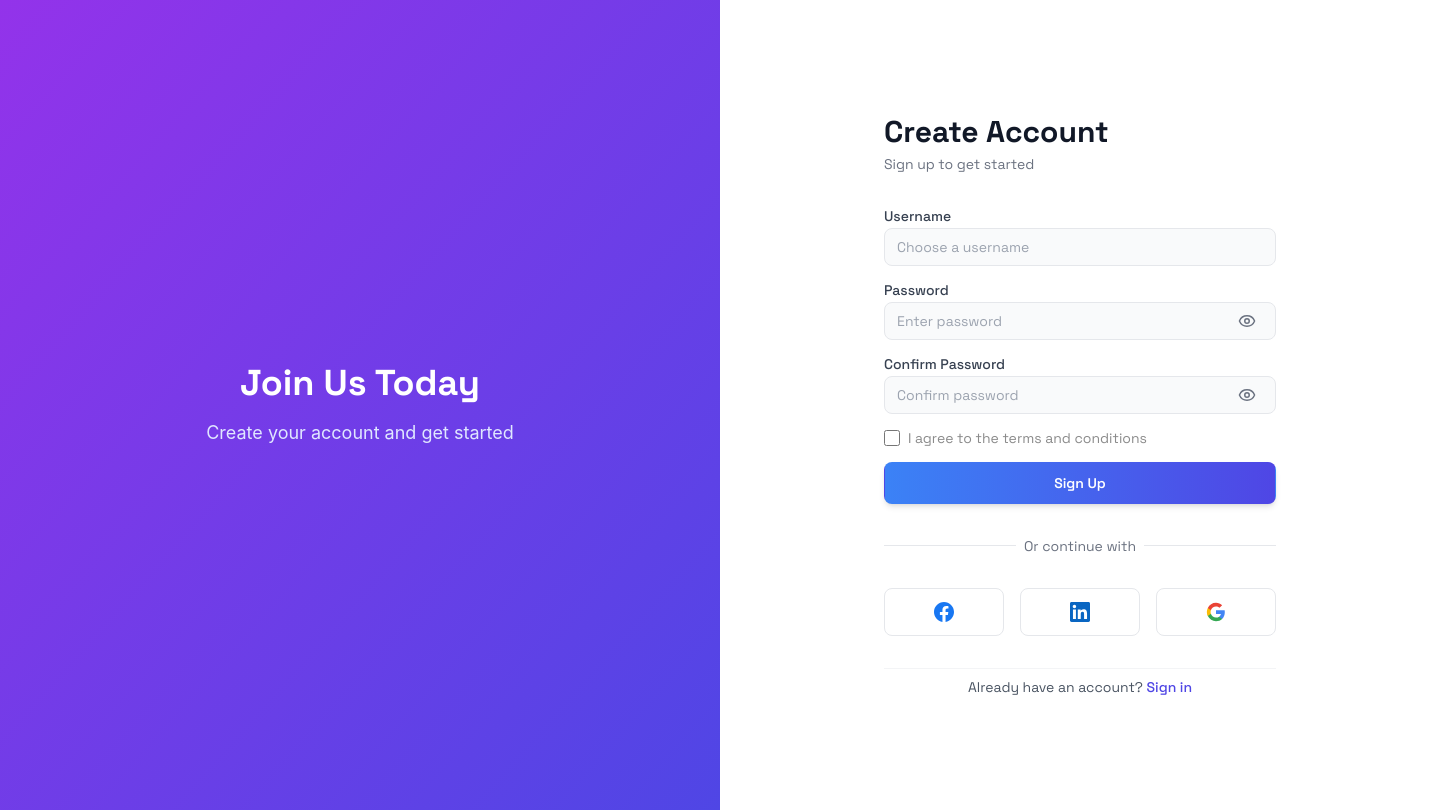
Scenario: RegisterForm › shows error when password is empty
Type "testuser" into the field labelled "Username" at (1080, 246), box [884,228,1276,266]
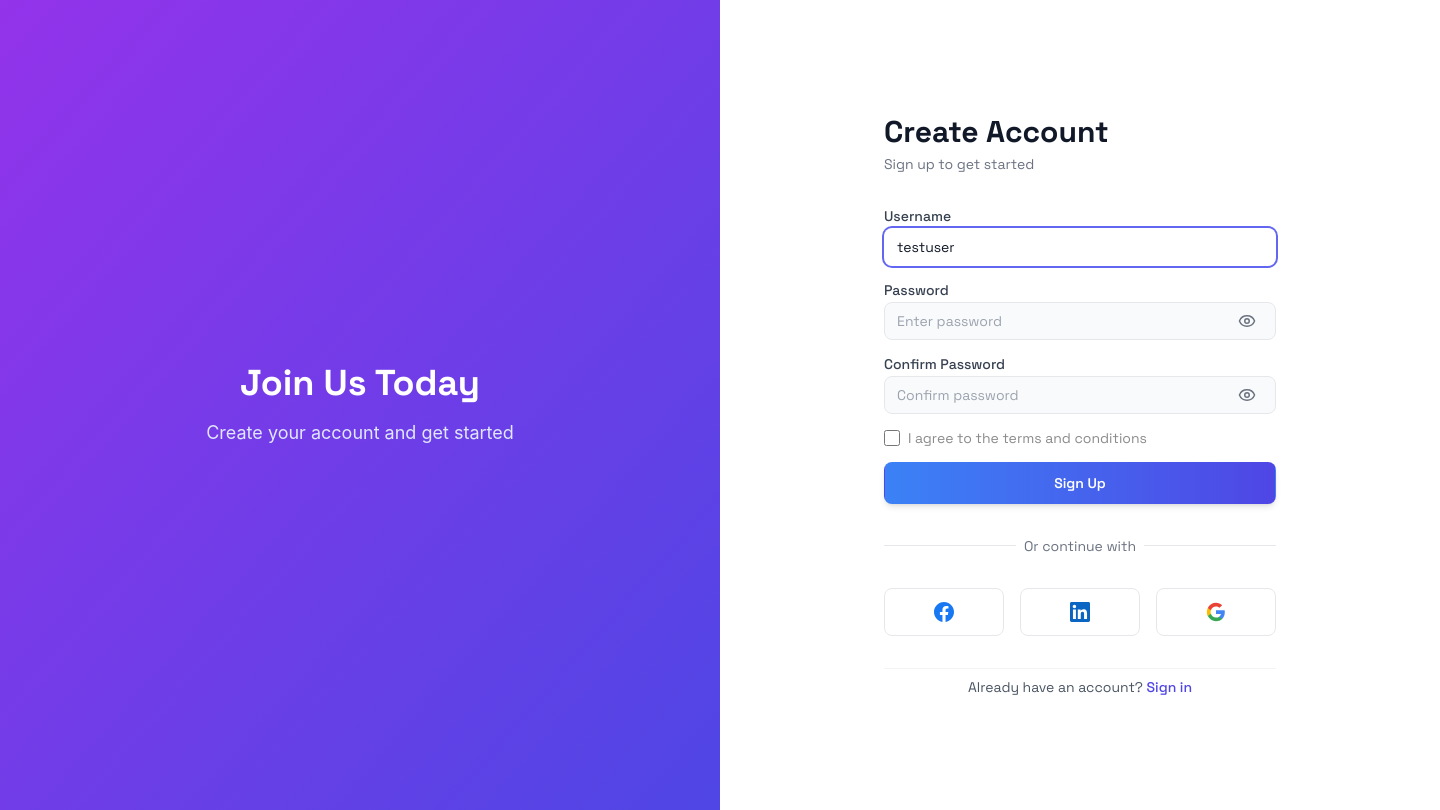
Click the button "Sign Up" at (1080, 482), box [884,462,1276,504]
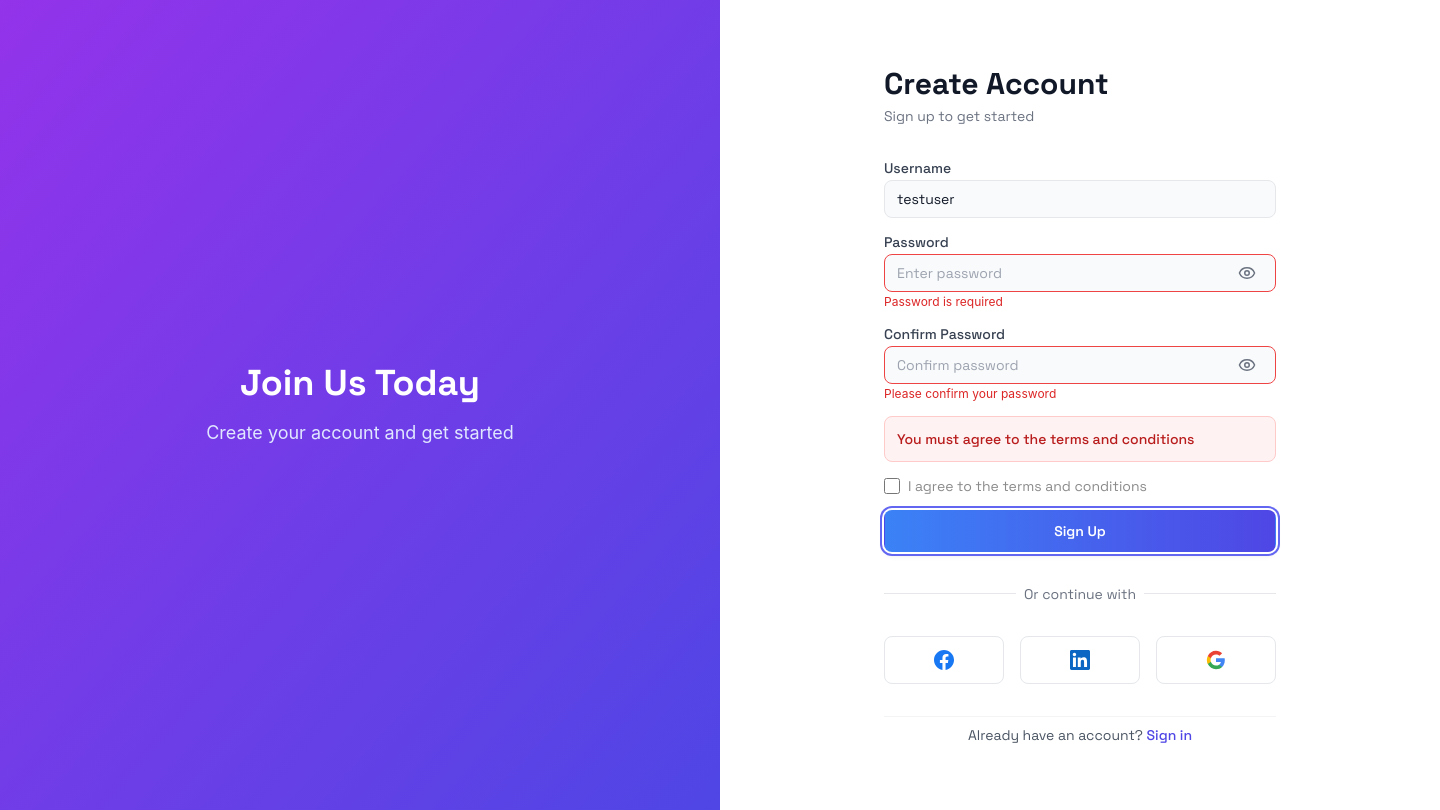
Now the text "Password is required" is shown, box [884,294,1003,308]
